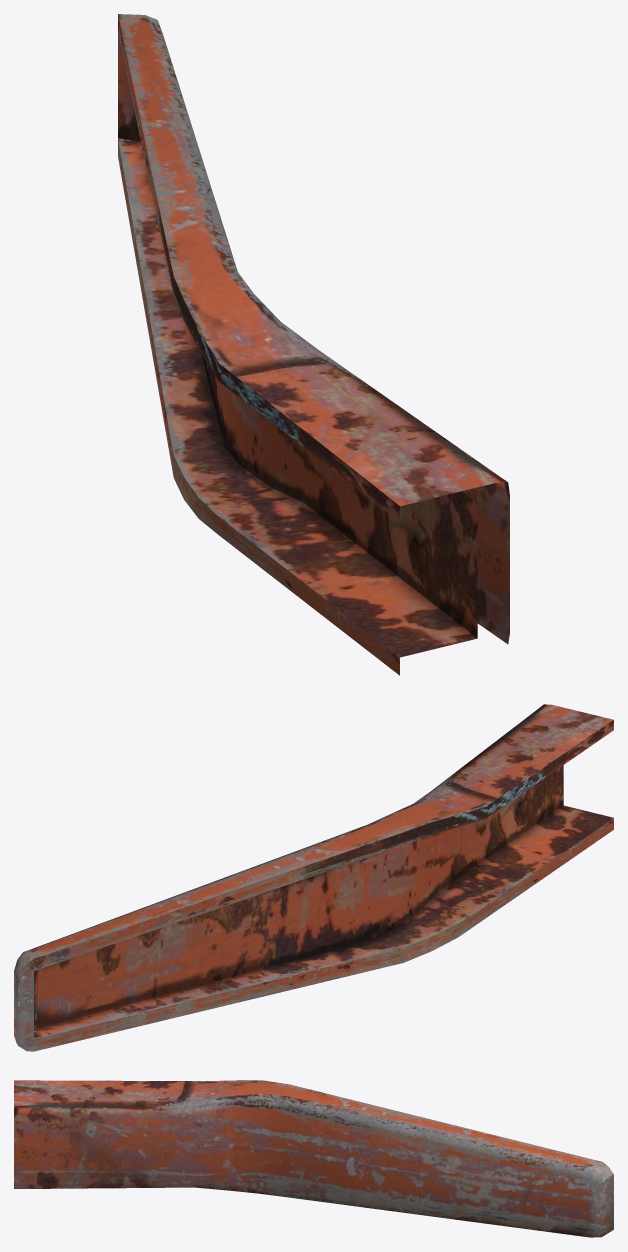
File: meh.obj
3 renders of one model, top to bottom at view 1: azimuth 30°, elevation 25°; view 2: azimuth 150°, elevation 25°; view 3: azimuth 270°, elevation 25°, orthographic. The views are drawn at different scales.
Visible parts, largest first — view 1: veh_zuzik; view 2: veh_zuzik; view 3: veh_zuzik.
Part boxes in pixels (x1,y1,x2,y2): veh_zuzik: [118, 14, 509, 675]; veh_zuzik: [14, 704, 613, 1051]; veh_zuzik: [14, 1080, 613, 1237].
Size of the model in its own units: 0.0581 by 0.0328 by 0.1769.
1 material, 1 textured.
